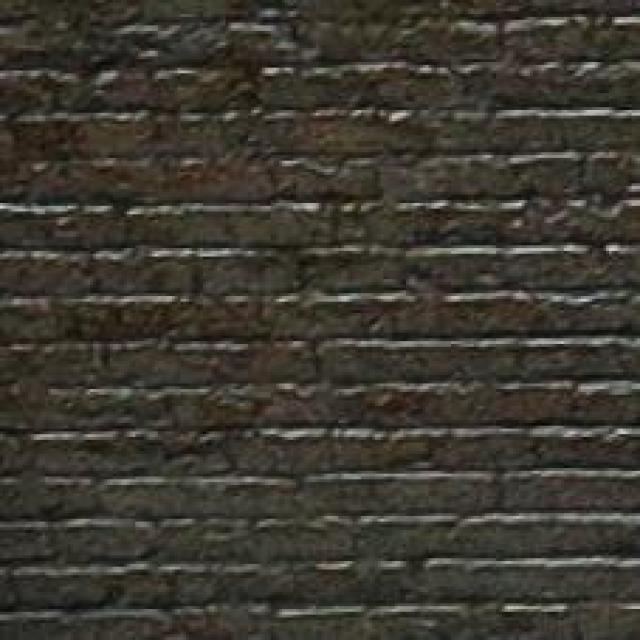Crack: (0, 0, 443, 220)
